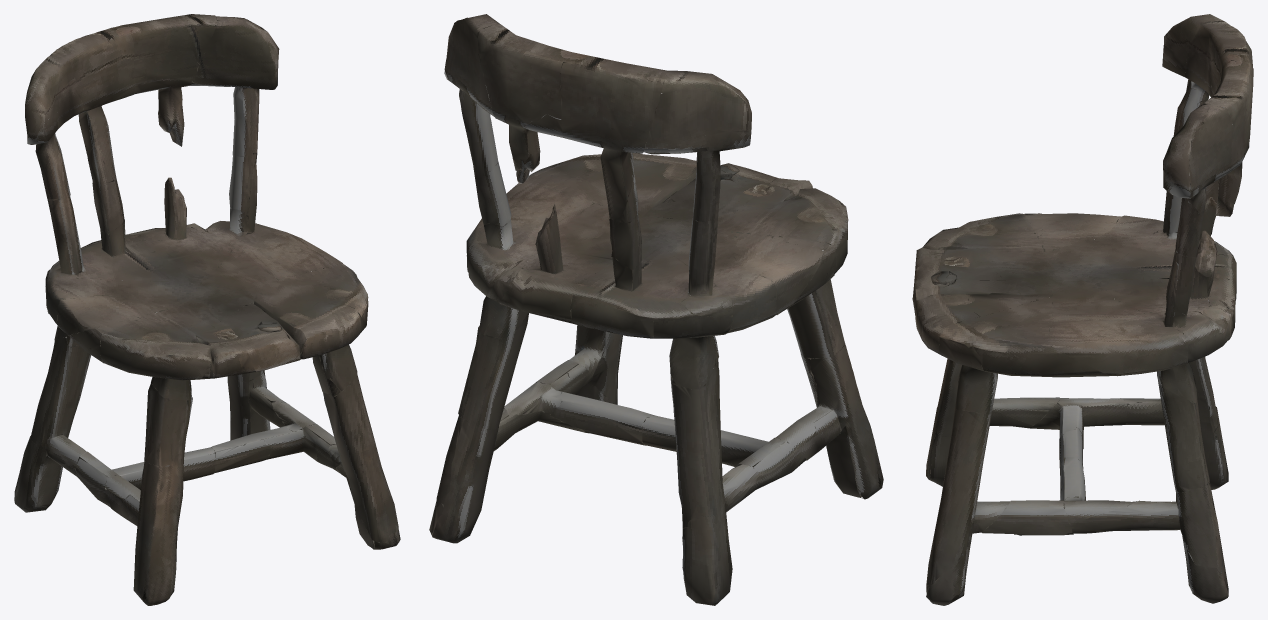
The model's file is mn_chair.glb.
3 views of the same model, side by side, from view 1: azimuth 30°, elevation 25°; view 2: azimuth 150°, elevation 25°; view 3: azimuth 270°, elevation 25° (orthographic). The views are drawn at different scales.
Parts seen in each view (by area): view 1: mn_chair; view 2: mn_chair; view 3: mn_chair.
Boxes of the visible parts, box(x1,y1,x2,y2) form: mn_chair: box(14, 14, 400, 605); mn_chair: box(429, 14, 883, 605); mn_chair: box(912, 14, 1253, 605).
Bounding box in the file's own units: 0.5448 × 0.902 × 0.5782.
Materials: 1 (1 with a texture image).
